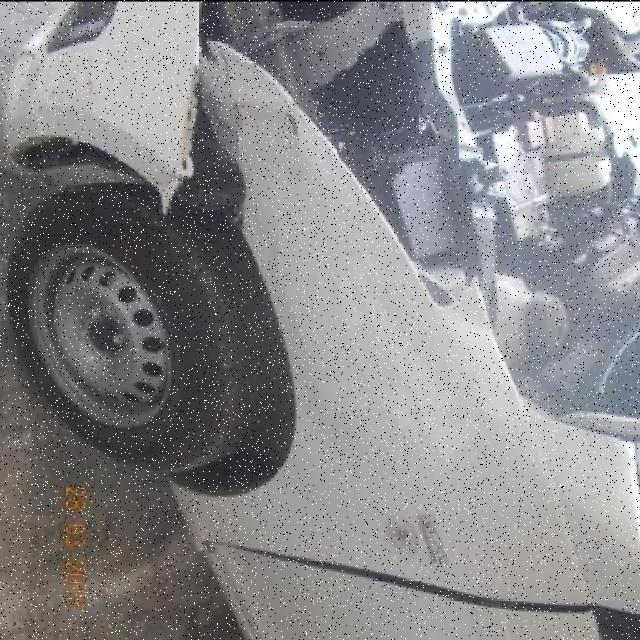damage: (148, 19, 307, 231), (204, 540, 600, 622), (1, 49, 100, 141)
